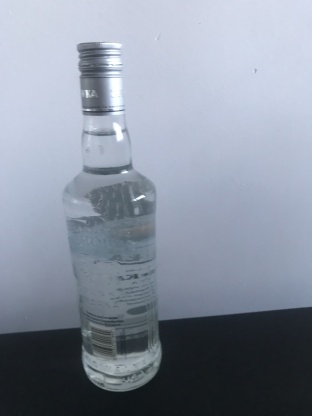nakretka: (75, 40, 126, 116)
